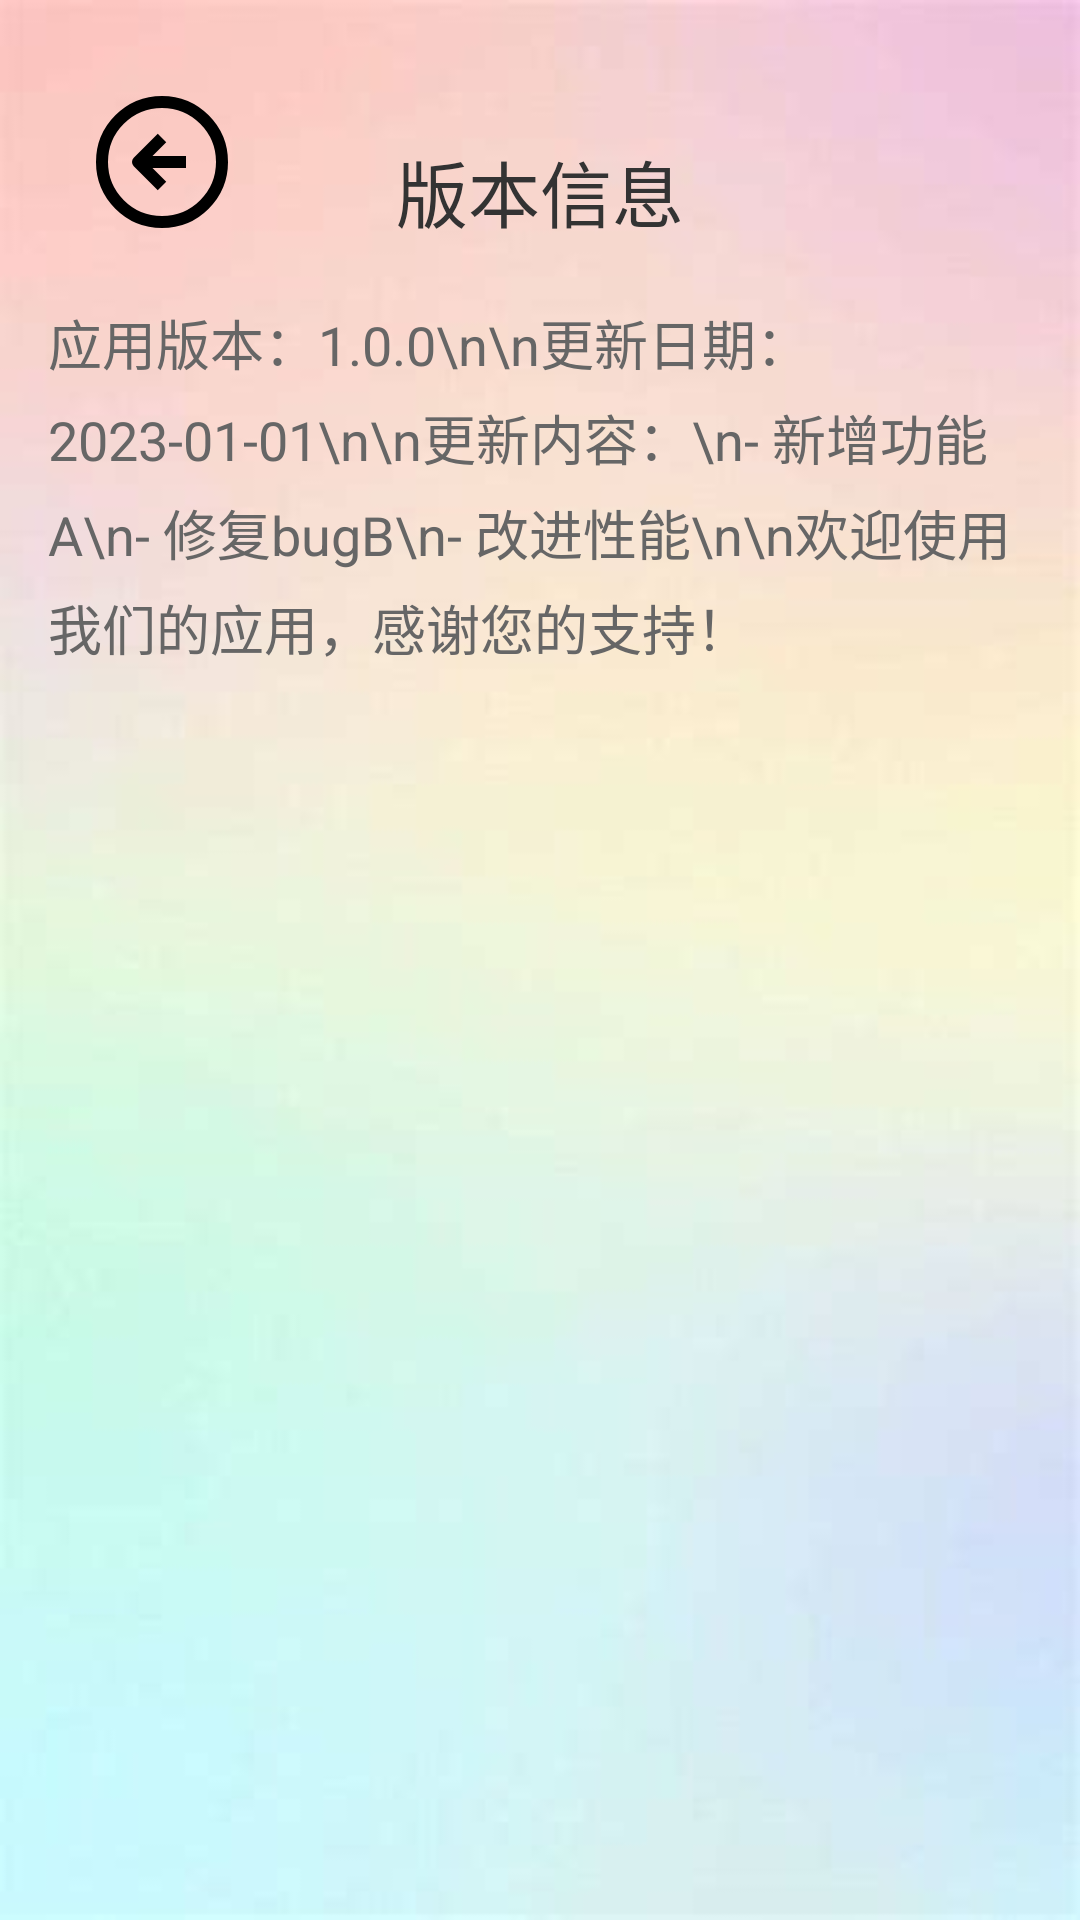

Icon bounding boxes for this 1080*1920 phone screenshot, format region(x1, y1, x2, y2):
back: region(96, 96, 228, 228)
